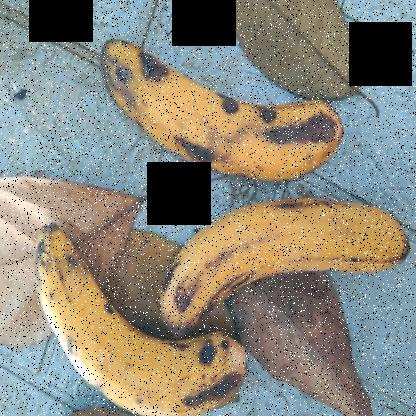overripe: (93, 12, 354, 198)
ripe: (16, 224, 241, 415), (154, 184, 411, 326)
